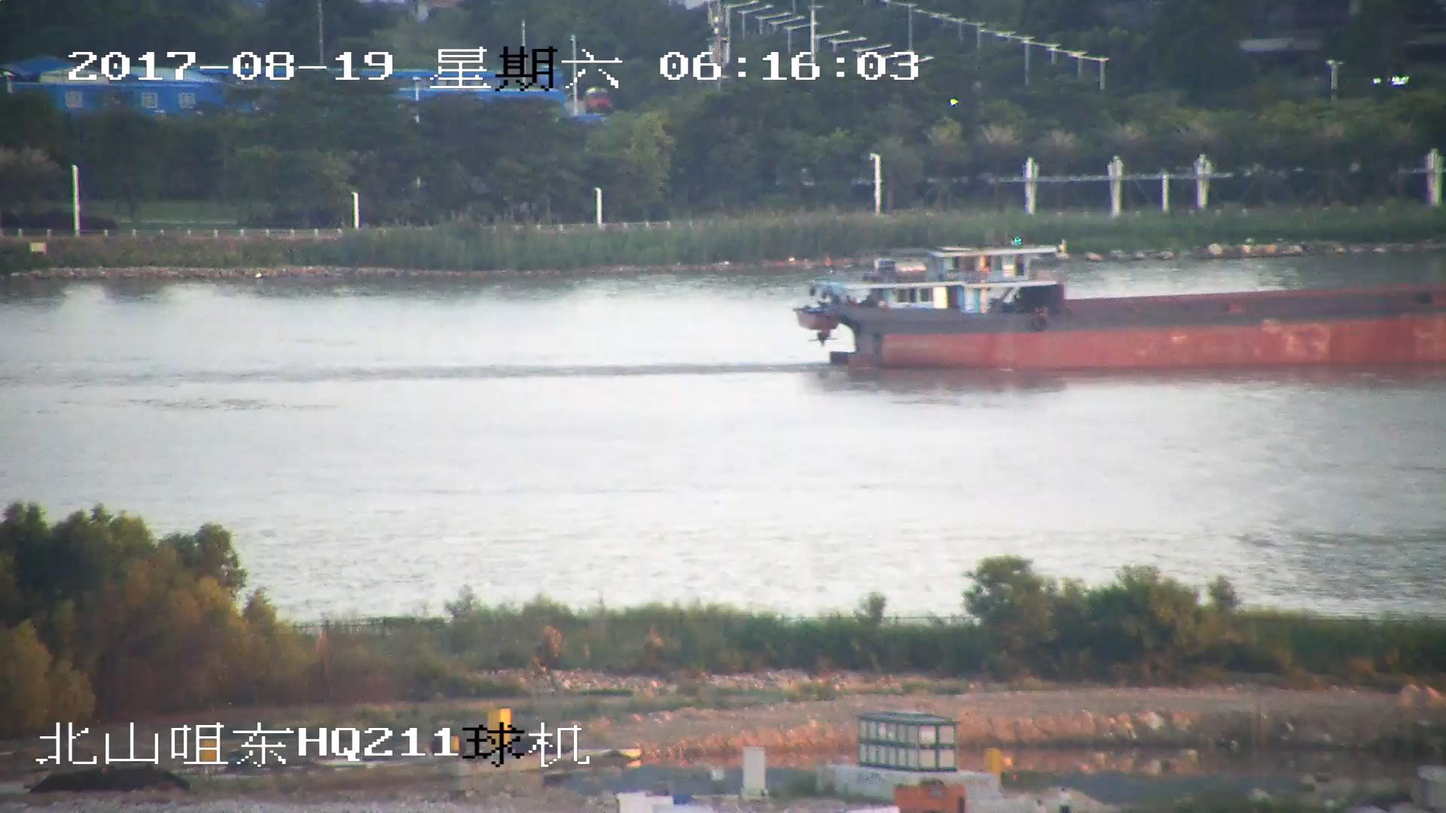bulk cargo carrier: (792, 241, 1445, 373)
